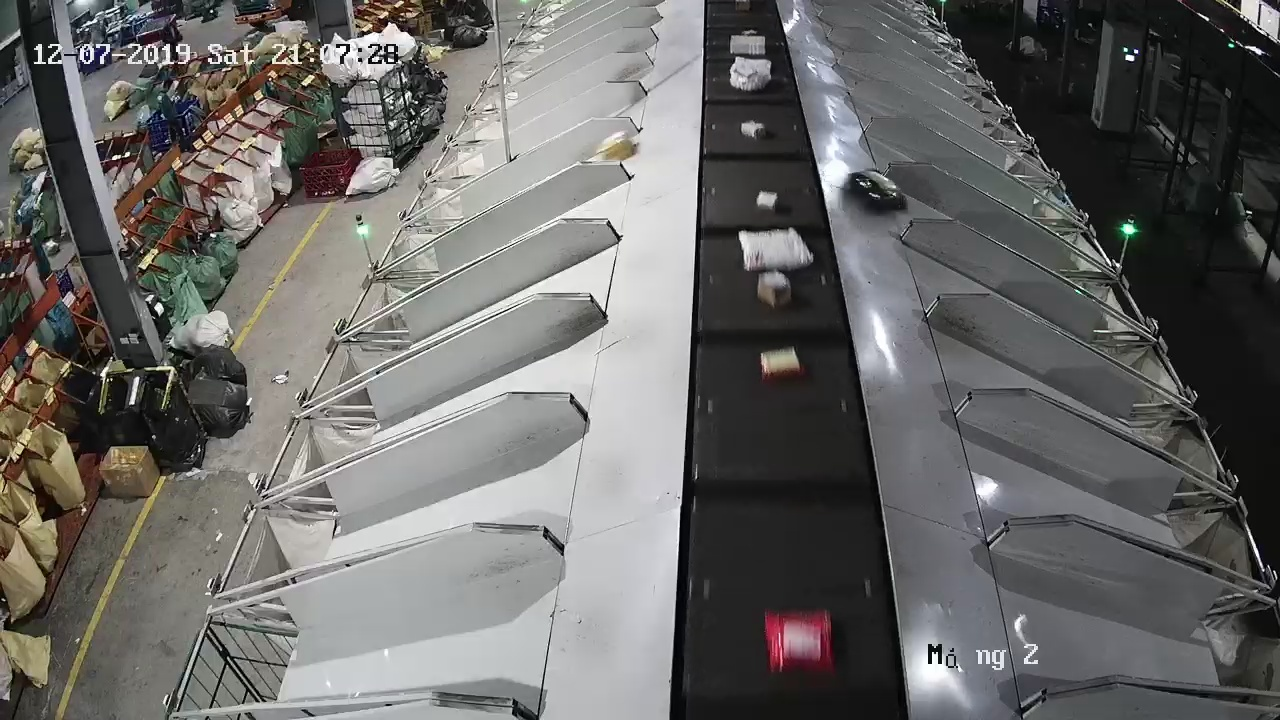parcel: (847, 167, 909, 214), (598, 130, 634, 161)
